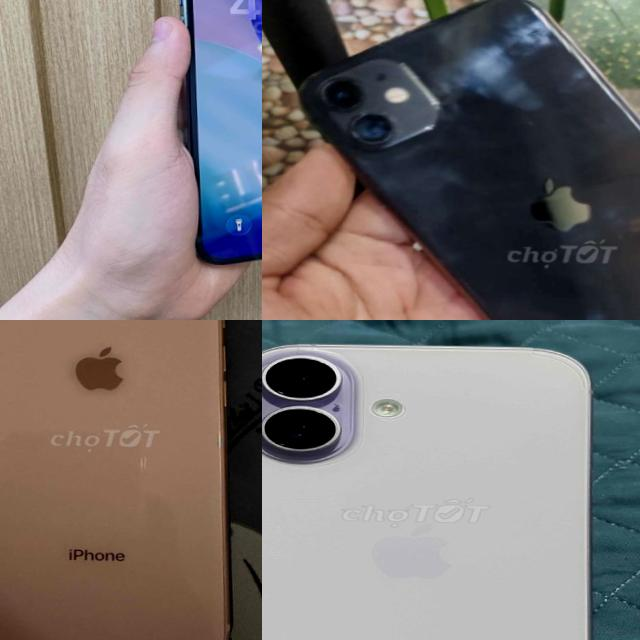gen_11: (295, 0, 640, 320)
gen_12_13: (171, 0, 262, 269)
gen_17: (262, 338, 618, 640)
gen_7_8: (0, 320, 242, 640)
scratch: (212, 398, 231, 524), (134, 450, 154, 471), (205, 632, 228, 640)
